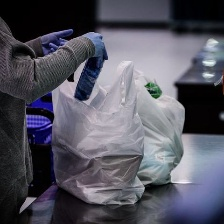plastic_bag: (38, 52, 149, 211), (114, 61, 188, 191)
